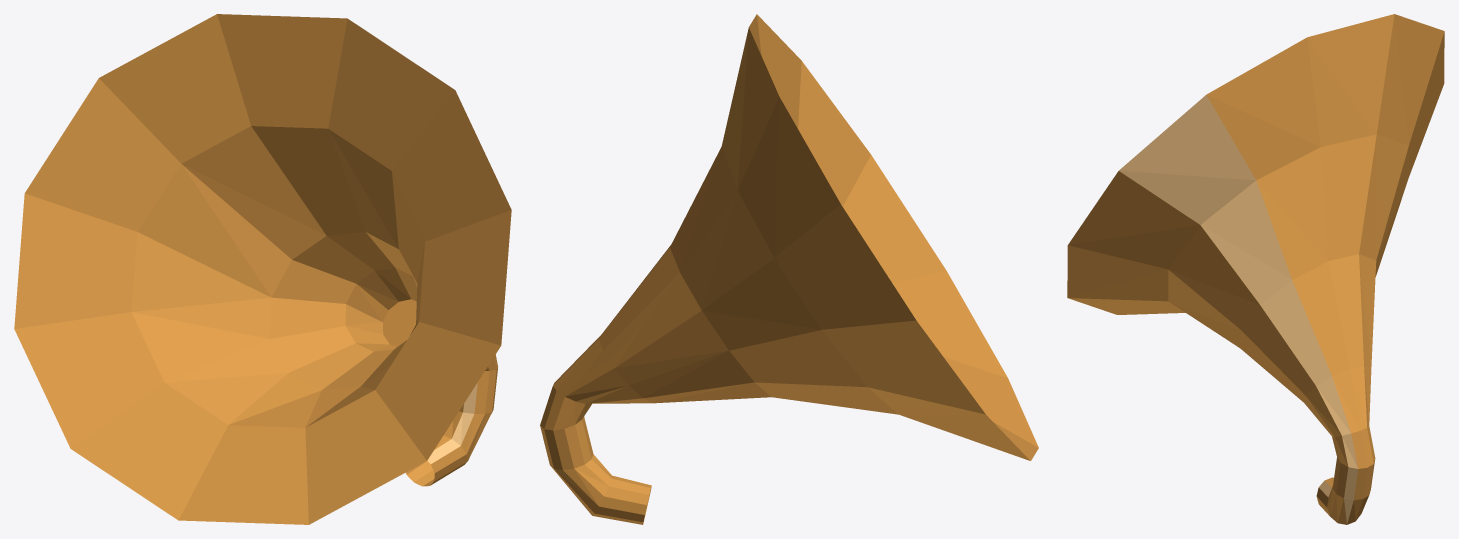
File: Gr_horn.fbx
3 renders of one model, left to right at view 1: azimuth 30°, elevation 25°; view 2: azimuth 150°, elevation 25°; view 3: azimuth 270°, elevation 25°, orthographic. The views are drawn at different scales.
Parts seen in each view (by area): view 1: group225046476.003; view 2: group225046476.003; view 3: group225046476.003.
Boxes of the visible parts, x1,y1,x2,y2 form: group225046476.003: (14, 14, 511, 524); group225046476.003: (540, 14, 1038, 524); group225046476.003: (1067, 14, 1444, 524).
Size of the model in its own units: 67.42 by 70.19 by 55.02.
